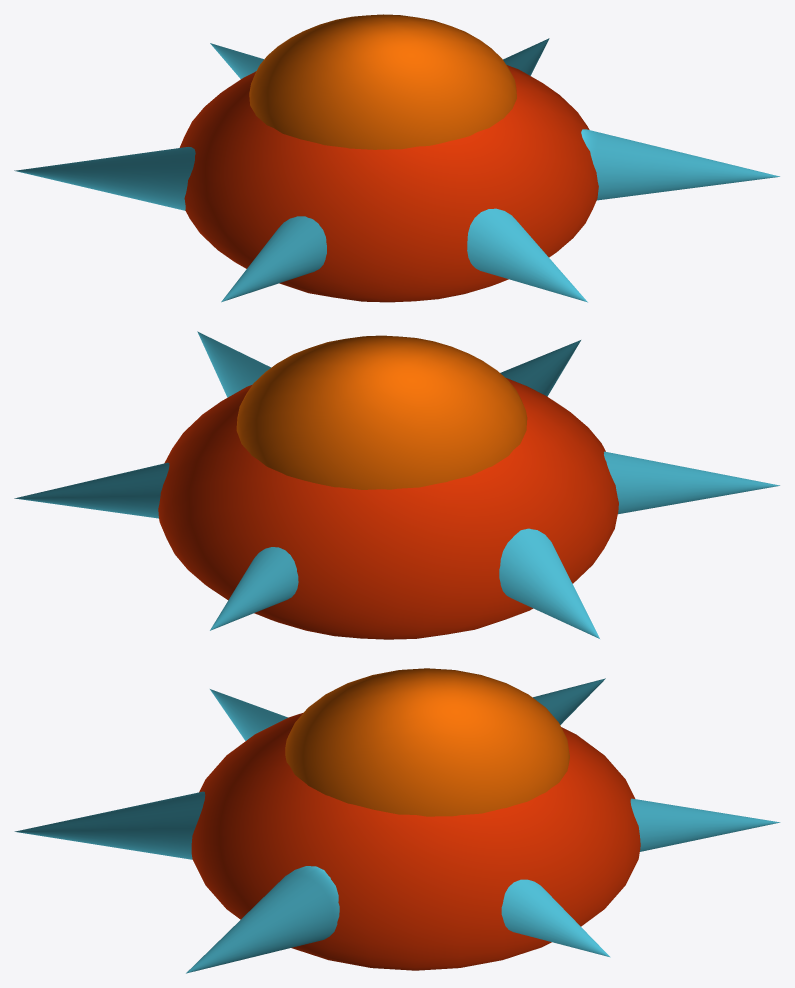
File: mothership.obj
The picture shows the model from 3 angles, top to bottom: view 1: azimuth 30°, elevation 25°; view 2: azimuth 150°, elevation 25°; view 3: azimuth 270°, elevation 25°; orthographic projection. The views are drawn at different scales.
Parts seen in each view (by area): view 1: Sphere01, Sphere02, Cone01, Cone06, Cone02, Cone03, Cone05, Cone04; view 2: Sphere01, Sphere02, Cone06, Cone03, Cone04, Cone05, Cone01, Cone02; view 3: Sphere01, Sphere02, Cone01, Cone02, Cone05, Cone04, Cone03, Cone06.
Part boxes in pixels (<box>): Sphere01: <box>179,65,598,302</box>; Sphere02: <box>249,14,516,149</box>; Cone01: <box>581,129,779,200</box>; Cone06: <box>14,147,195,210</box>; Cone02: <box>467,208,587,302</box>; Cone03: <box>221,216,326,302</box>; Cone05: <box>210,43,263,78</box>; Cone04: <box>503,38,549,75</box>; Sphere01: <box>158,378,618,639</box>; Sphere02: <box>236,335,527,489</box>; Cone06: <box>499,528,599,638</box>; Cone03: <box>604,451,779,514</box>; Cone04: <box>14,462,169,518</box>; Cone05: <box>210,547,298,630</box>; Cone01: <box>197,331,270,397</box>; Cone02: <box>500,340,580,396</box>; Sphere01: <box>191,712,640,970</box>; Sphere02: <box>285,668,569,816</box>; Cone01: <box>186,866,339,973</box>; Cone02: <box>14,791,205,859</box>; Cone05: <box>630,798,780,851</box>; Cone04: <box>501,879,610,957</box>; Cone03: <box>210,689,287,740</box>; Cone06: <box>533,678,605,724</box>.
Size of the model in its own units: 182 by 68.84 by 199.
